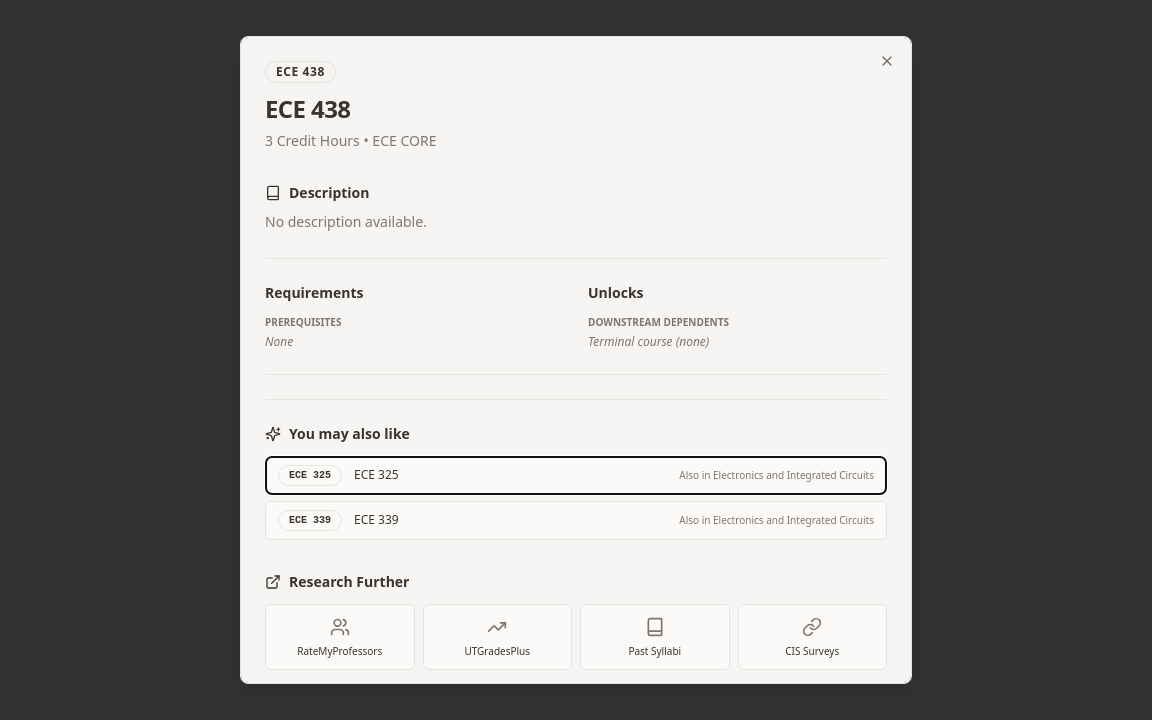
Test case: CourseDetailDialog — "You may also like" (FR6) › clicking a recommendation re-targets the dialog at that course
Expected: the text "ECE 438" is shown, left=265, top=61, right=336, bottom=83
Click the button "ECE 325 ECE 325 Also in Electronics and Integrated Circuits".
click(310, 475)  # box left=265, top=456, right=887, bottom=495
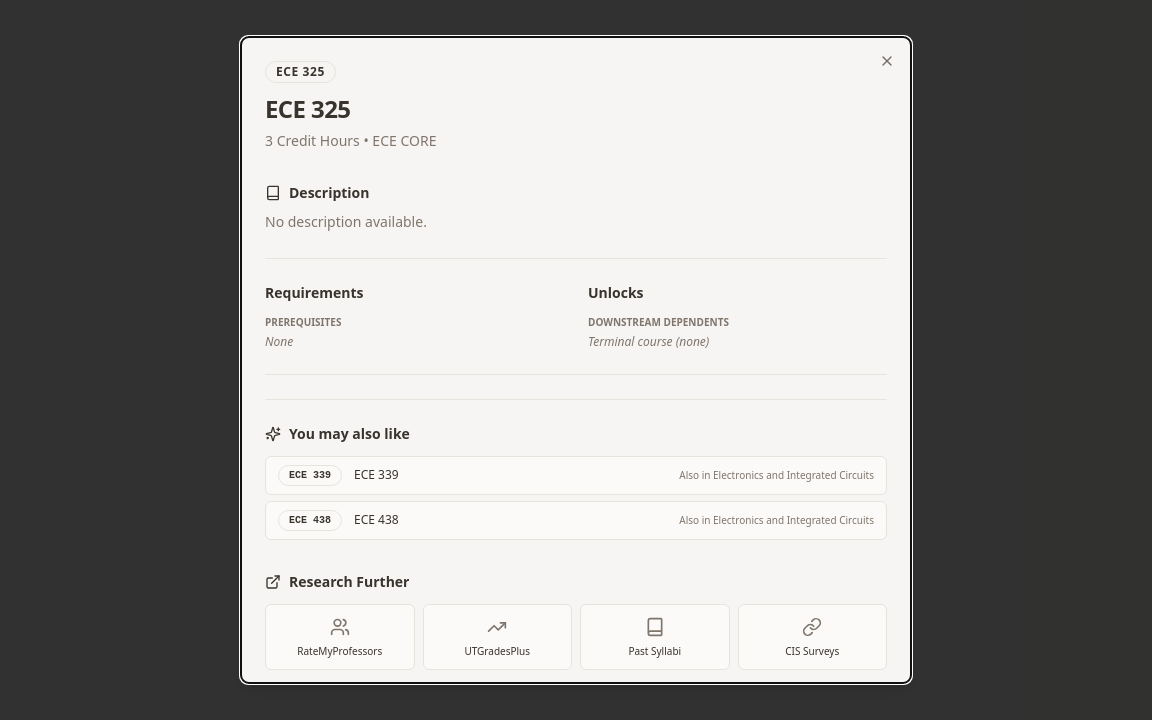
Expected: the text "ECE 325" is shown, left=265, top=61, right=336, bottom=83
Expected: the button "ECE 438 ECE 438 Also in Electronics and Integrated Circuits" is shown, left=265, top=501, right=887, bottom=540
